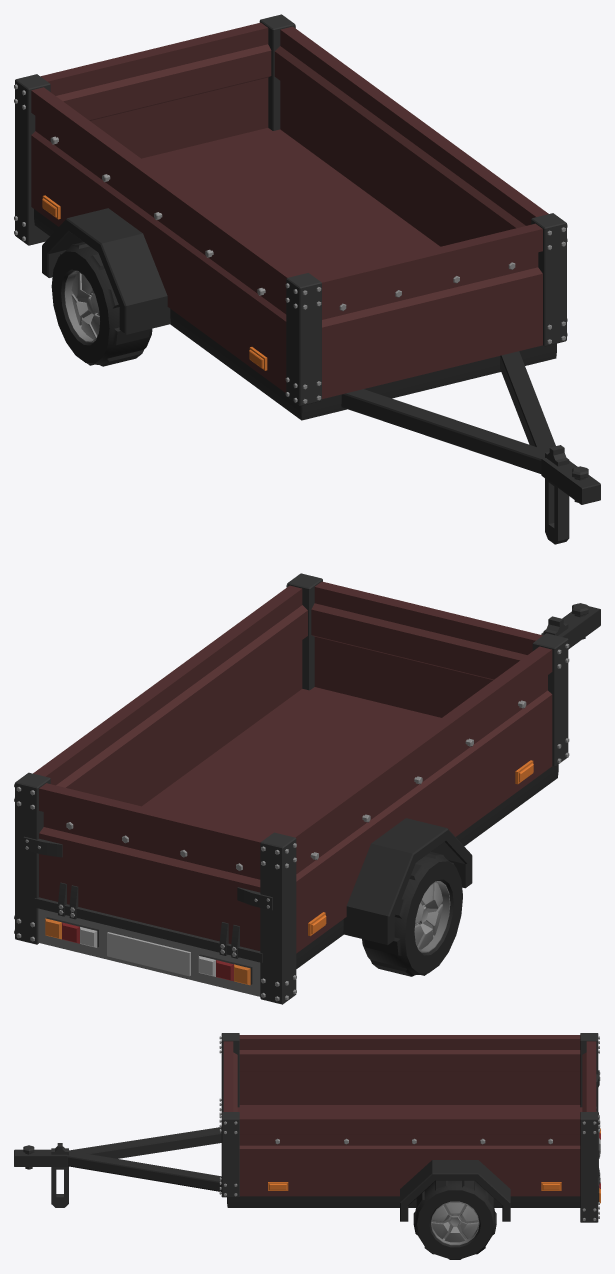
The model's file is car_14.glb.
3 views of the same model, one above another, from view 1: azimuth 30°, elevation 25°; view 2: azimuth 150°, elevation 25°; view 3: azimuth 270°, elevation 25° (orthographic). The views are drawn at different scales.
Visible parts, largest first — view 1: car_14; view 2: car_14; view 3: car_14.
Part boxes in pixels (box(x1,y1,x2,y2)): car_14: box(14, 14, 600, 544); car_14: box(14, 573, 600, 1004); car_14: box(14, 1033, 600, 1259).
Size of the model in its own units: 2.91 by 1.55 by 6.35.
1 material, 1 textured.
